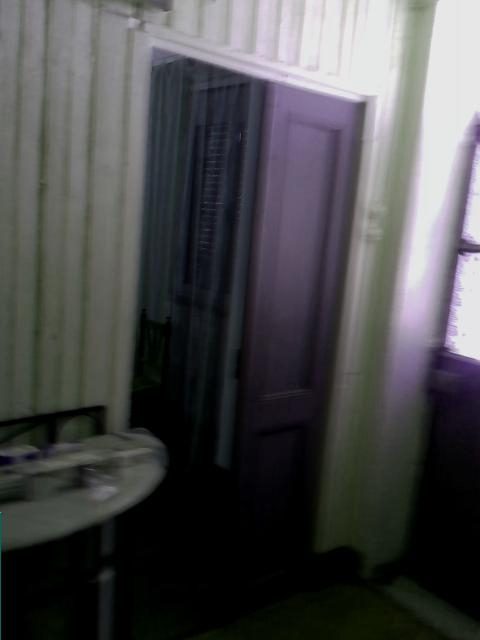open_door: (119, 26, 274, 639)
